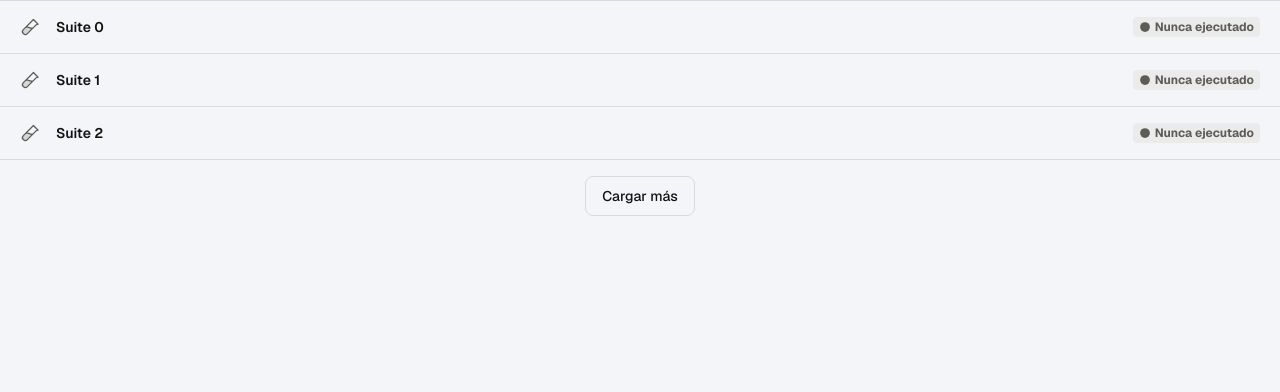
SuiteListResults announcements › speaks Spanish with the right plural
Click the button "Cargar más". click: x=640, y=196
box: [585, 176, 695, 216]
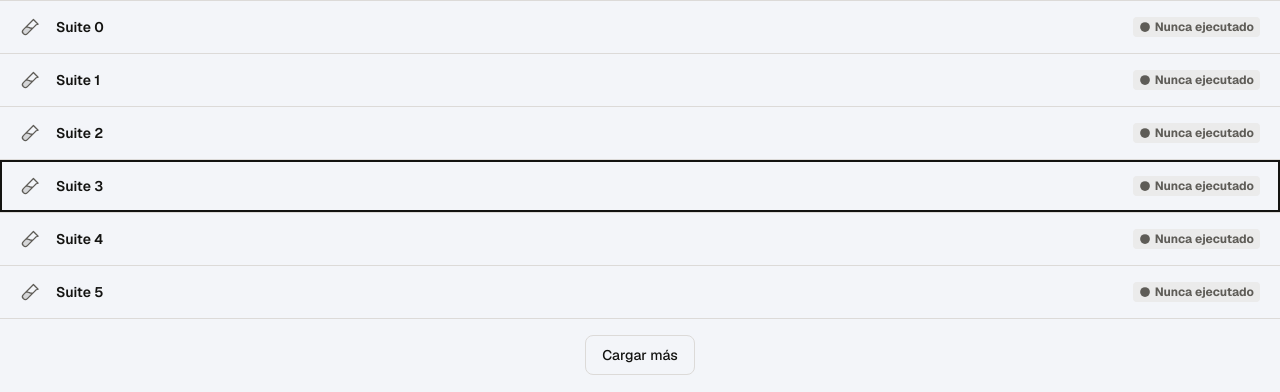
expect the element with test id "suite-row-s3" is shown: met, box [20, 174, 1260, 198]
Click the button "Cargar más". click: x=640, y=355
box: [585, 335, 695, 375]
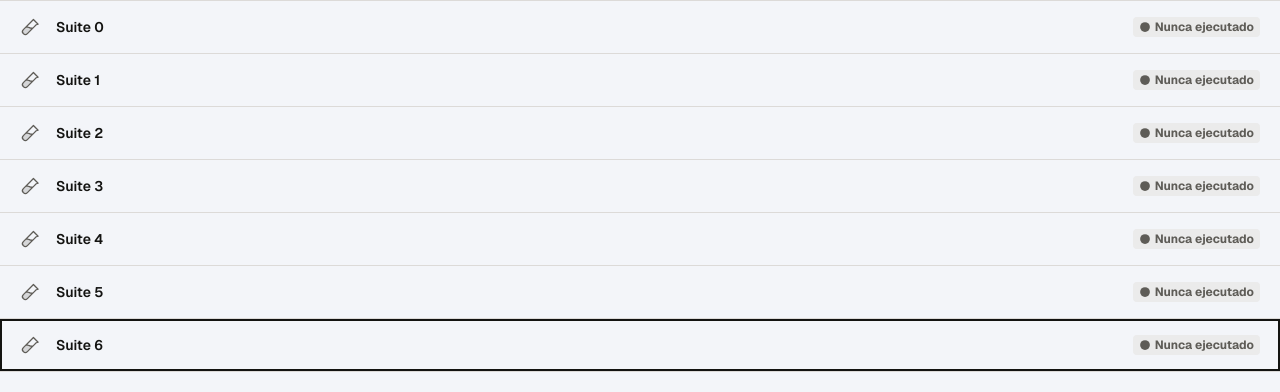
expect the element with test id "suite-row-s6" is shown: met, box [20, 333, 1260, 357]
